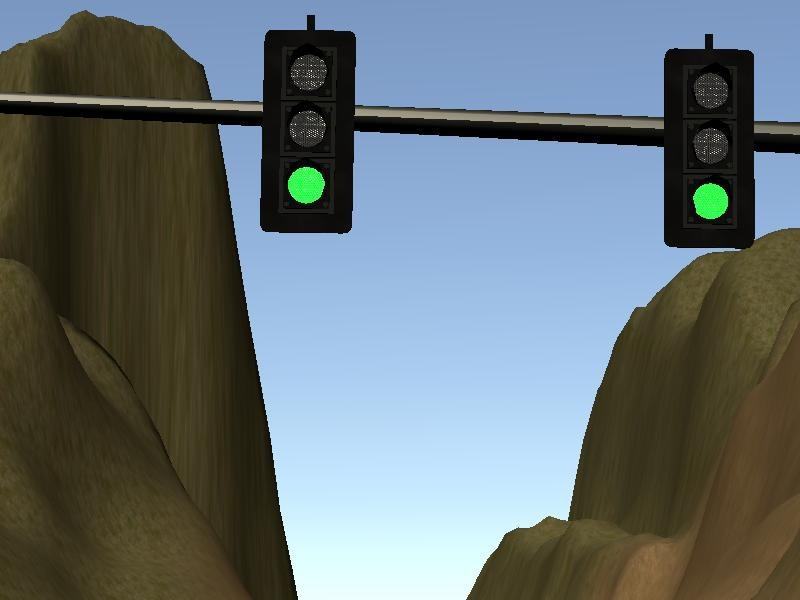GREEN: (262, 30, 353, 237), (664, 51, 756, 251)
